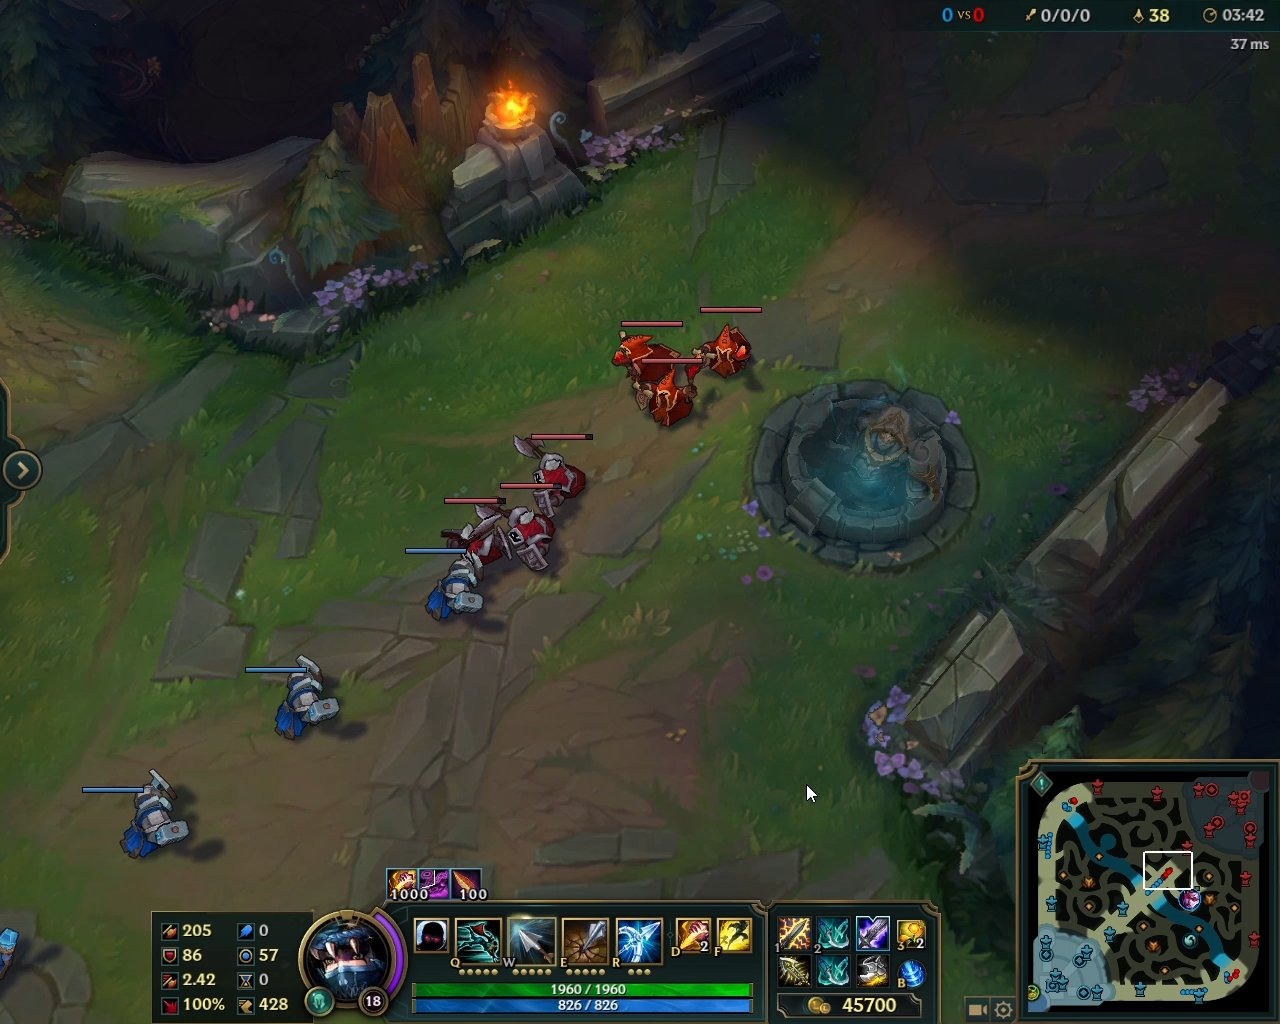EnemyMinion: (511, 432, 594, 516), (630, 353, 708, 428), (608, 320, 686, 392), (691, 306, 764, 381), (505, 483, 563, 574), (441, 496, 505, 569)
